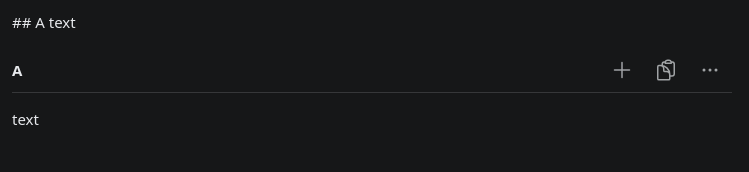
Scenario: copies a memo section with an accessible icon button (touch=true)
Click the button named "섹션 복사".
click(666, 70)  # box top-left (644, 48), bottom-right (688, 92)
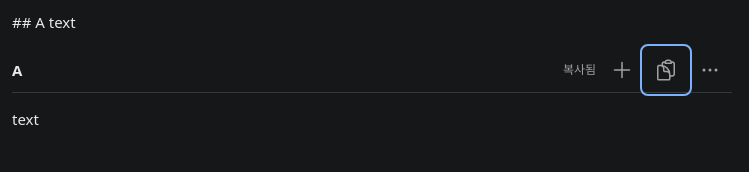
Result: the message reads "복사됨" at top-left (563, 61), bottom-right (596, 78)
